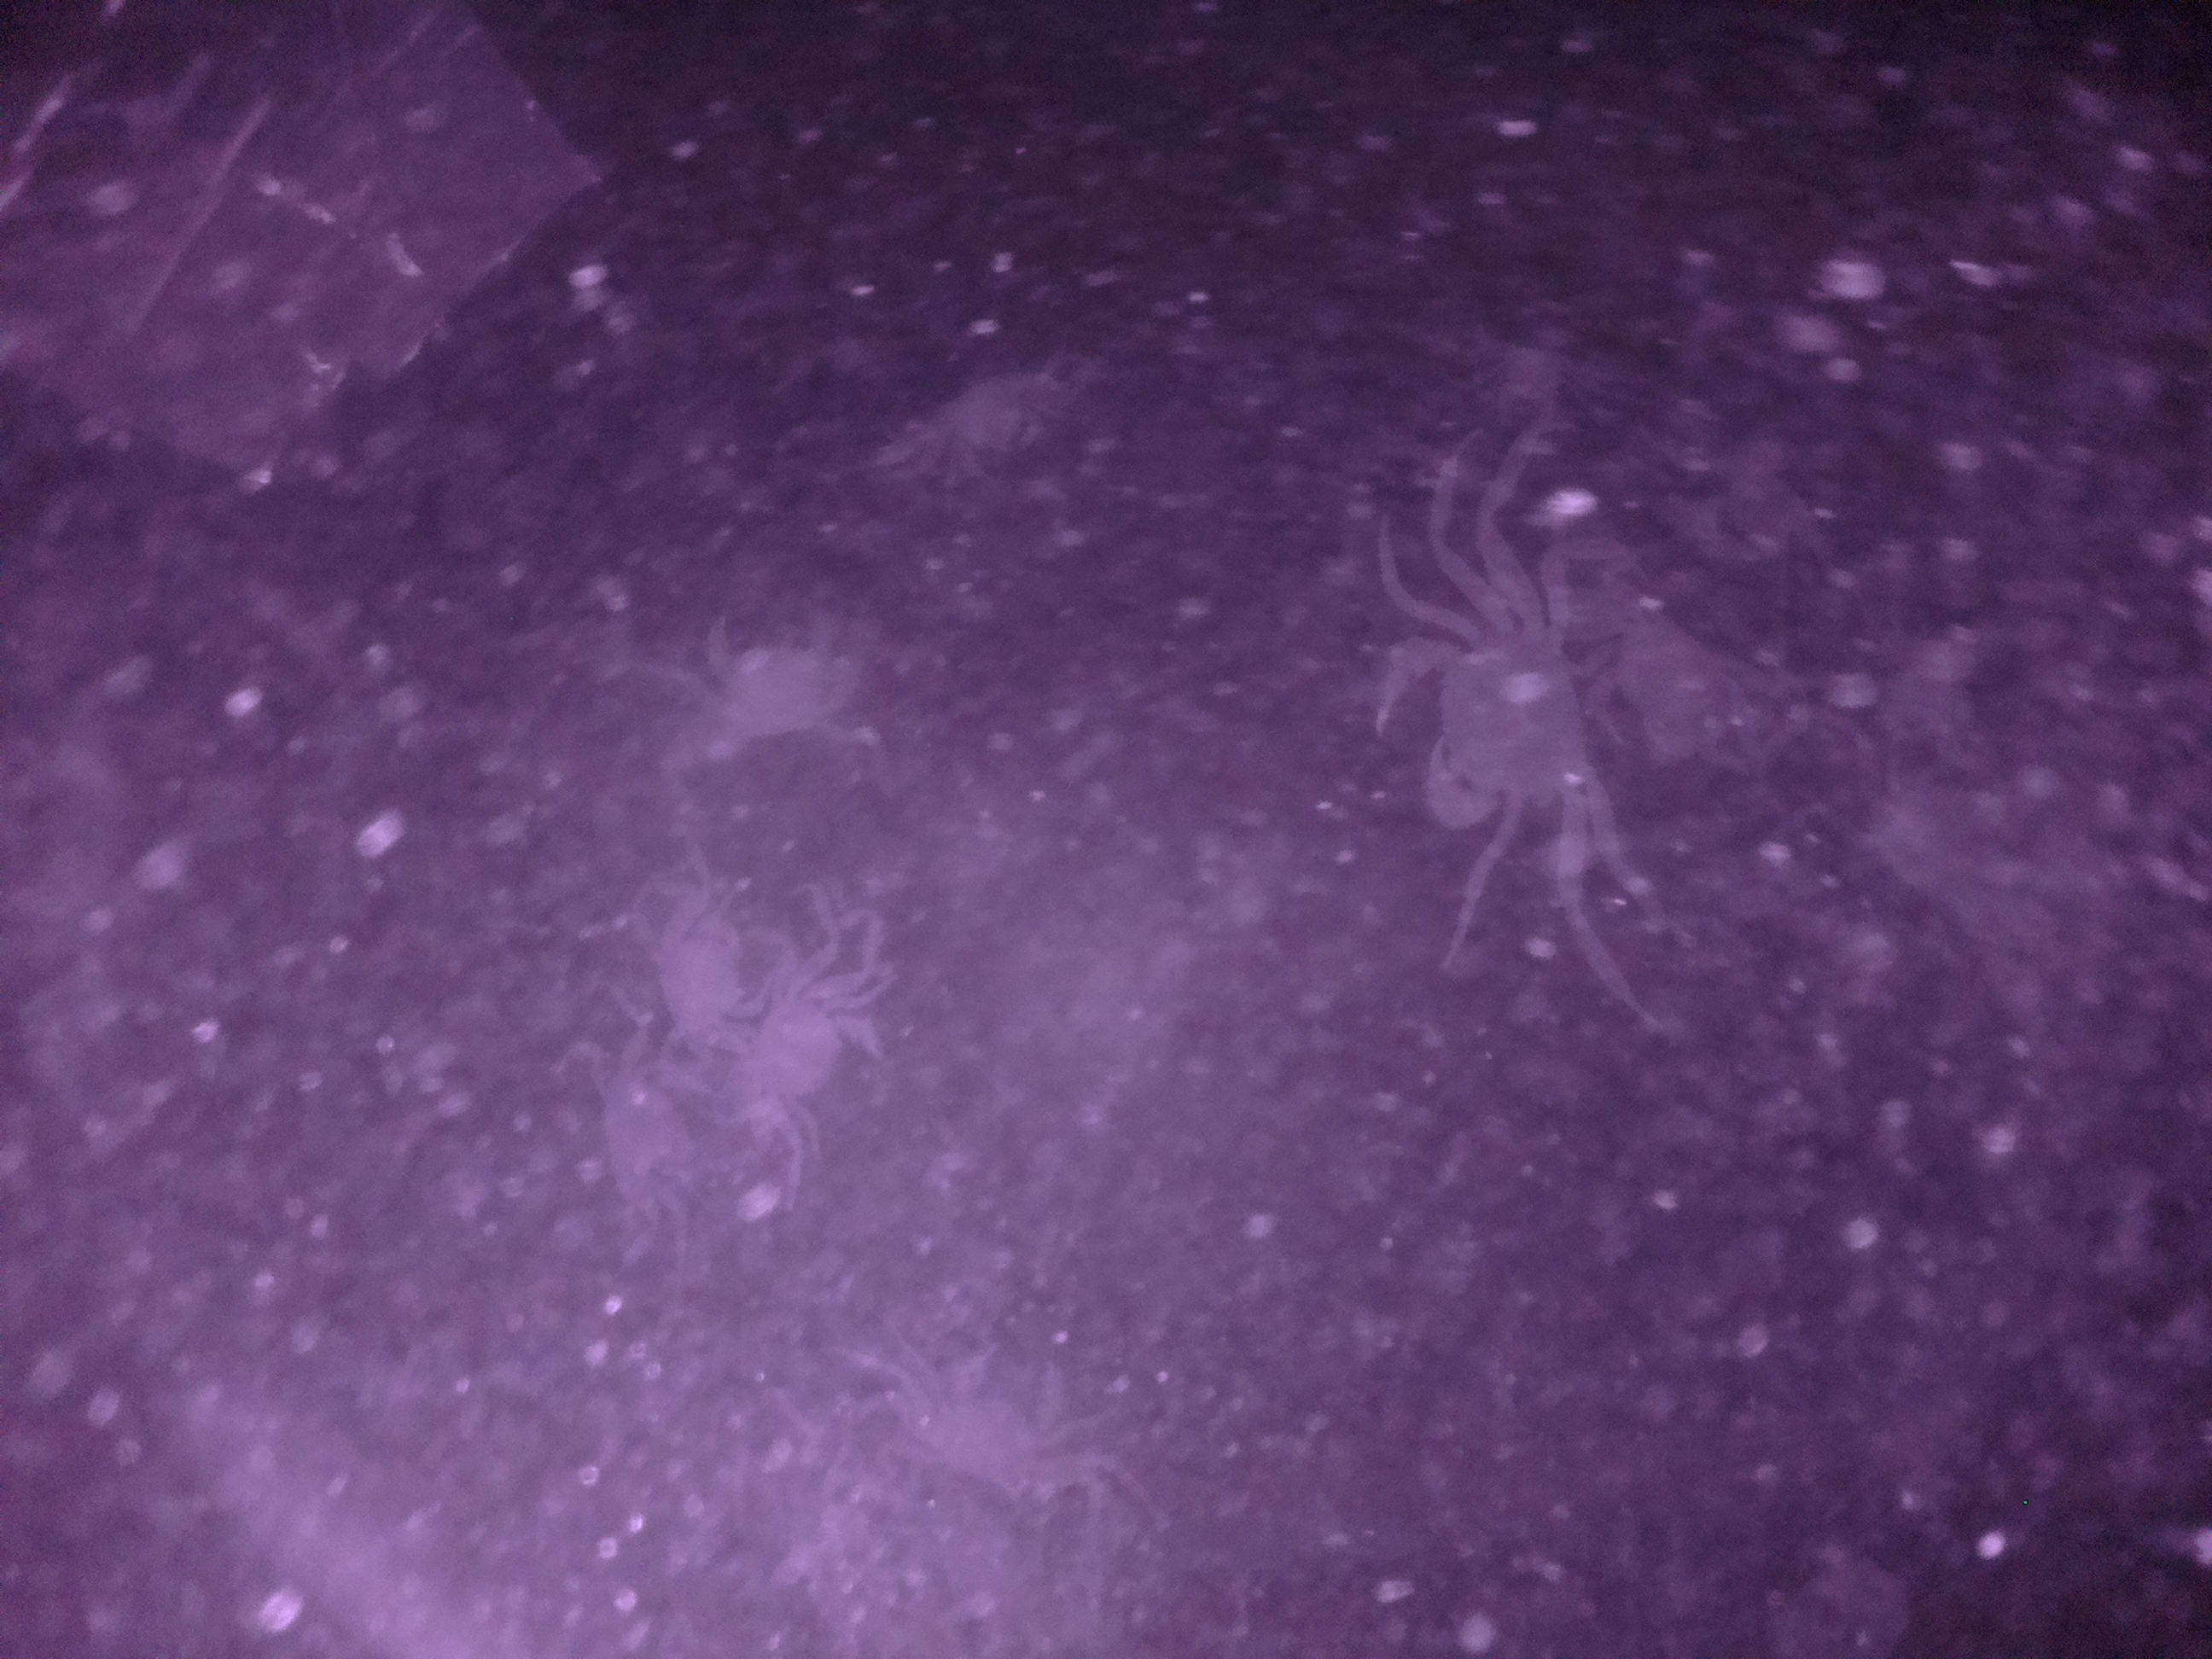Crab: (1362, 561, 1620, 863), (716, 948, 911, 1148)
